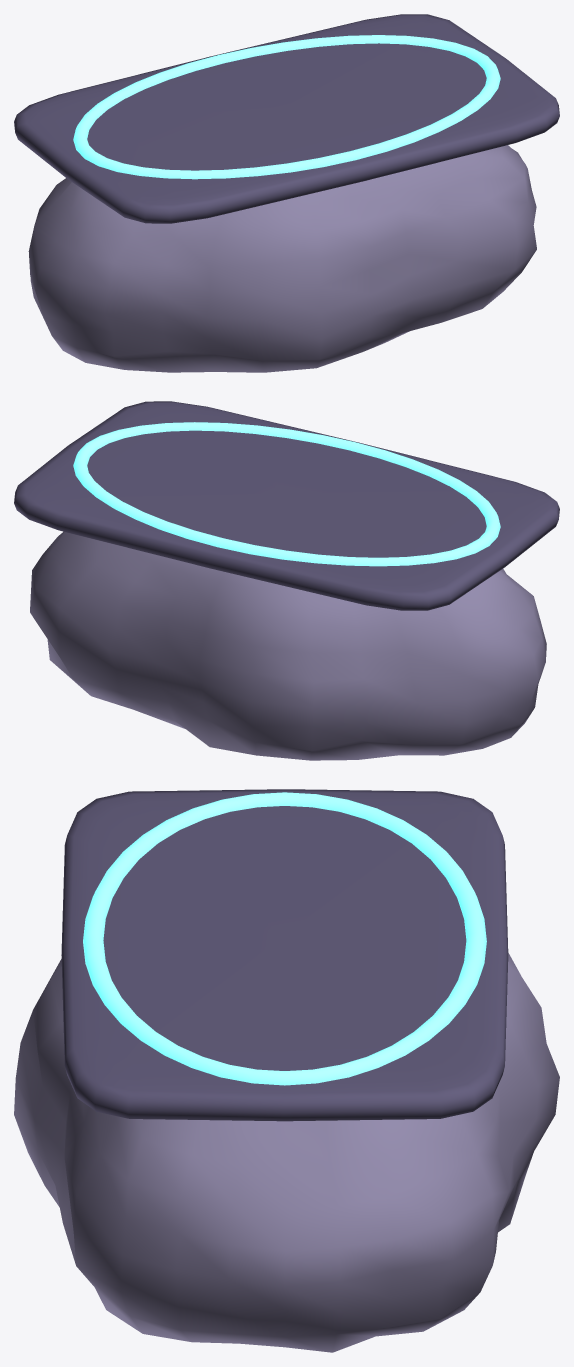
File: floating_platform.glb
3 views of the same model, one above another, from view 1: azimuth 30°, elevation 25°; view 2: azimuth 150°, elevation 25°; view 3: azimuth 270°, elevation 25° (orthographic). The views are drawn at different scales.
Visible parts, largest first — view 1: Body; view 2: Body; view 3: Body.
Part boxes in pixels (<box>): Body: <box>14,14,559,372</box>; Body: <box>14,401,559,760</box>; Body: <box>14,789,559,1352</box>.
Bounding box in the file's own units: 3.85 × 1.71 × 2.57.
